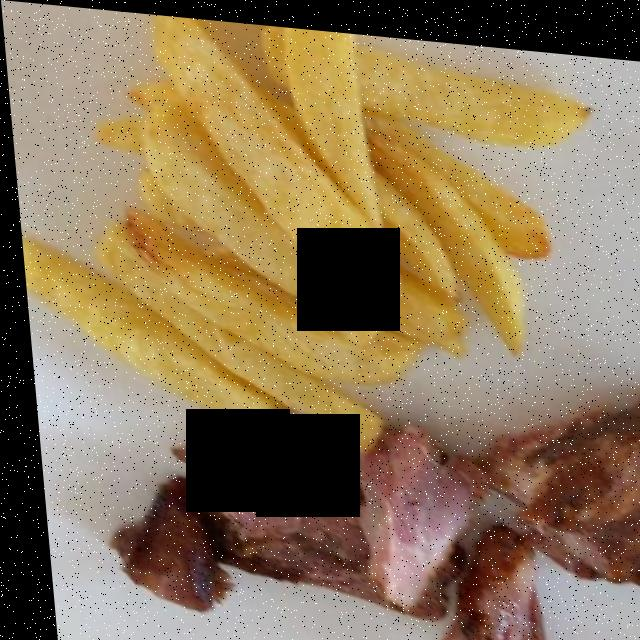bacon-frying: (105, 377, 640, 640)
chips-french-fries: (39, 27, 584, 442)
